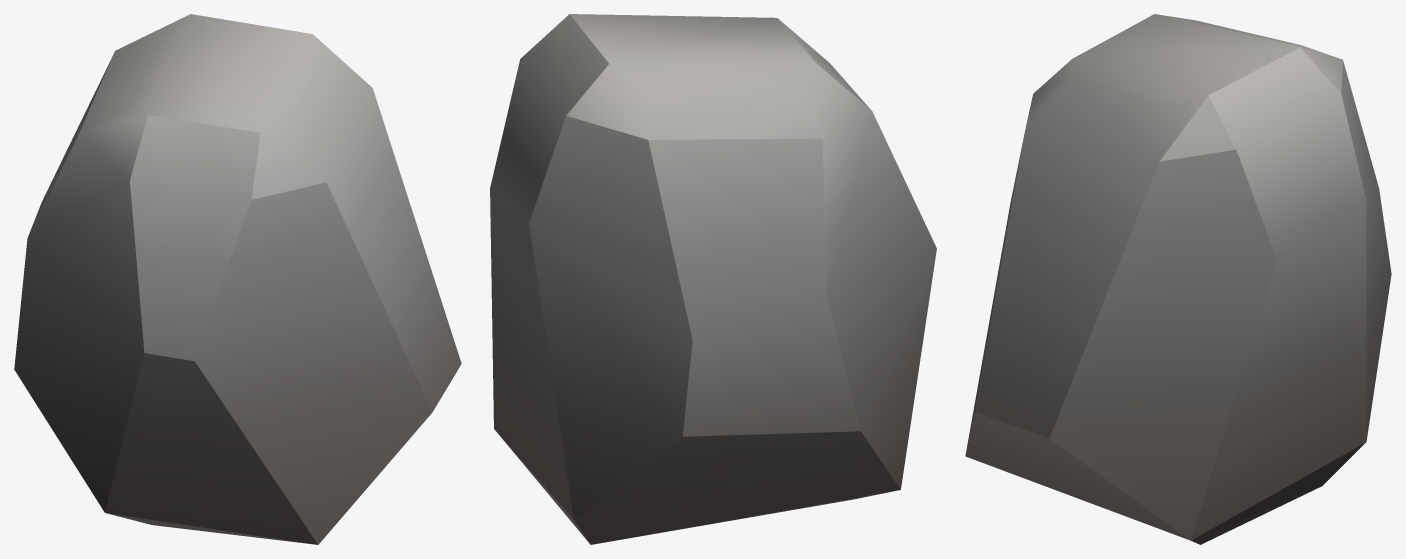
File: StoneSource1.fbx
The picture shows the model from 3 angles, left to right: view 1: azimuth 30°, elevation 25°; view 2: azimuth 150°, elevation 25°; view 3: azimuth 270°, elevation 25°; orthographic projection. The views are drawn at different scales.
Parts seen in each view (by area): view 1: StoneSource1_LOD0; view 2: StoneSource1_LOD0; view 3: StoneSource1_LOD0.
Boxes of the visible parts, x1,y1,x2,y2 form: StoneSource1_LOD0: [14, 14, 461, 544]; StoneSource1_LOD0: [490, 14, 936, 544]; StoneSource1_LOD0: [965, 14, 1391, 544].
Size of what is drawn, in the model's own units: 2.08 by 2.35 by 2.09.
